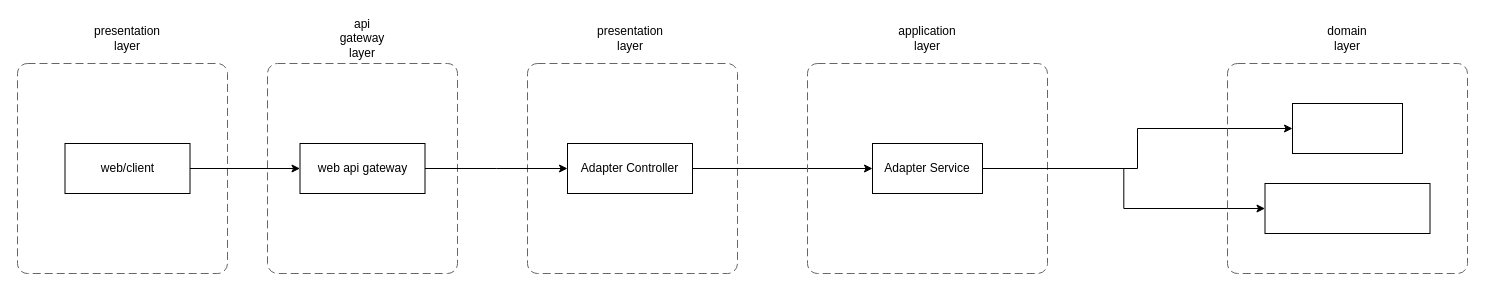
The diagram is 1485 pixels wide and 291 high, and some of its shapes have lost their labels. Here are the shapes that lost their labels. From the top down, the centre of each, then its label:
At (x=1347, y=128): "JSONService".
At (x=1347, y=208): "XMLService".
